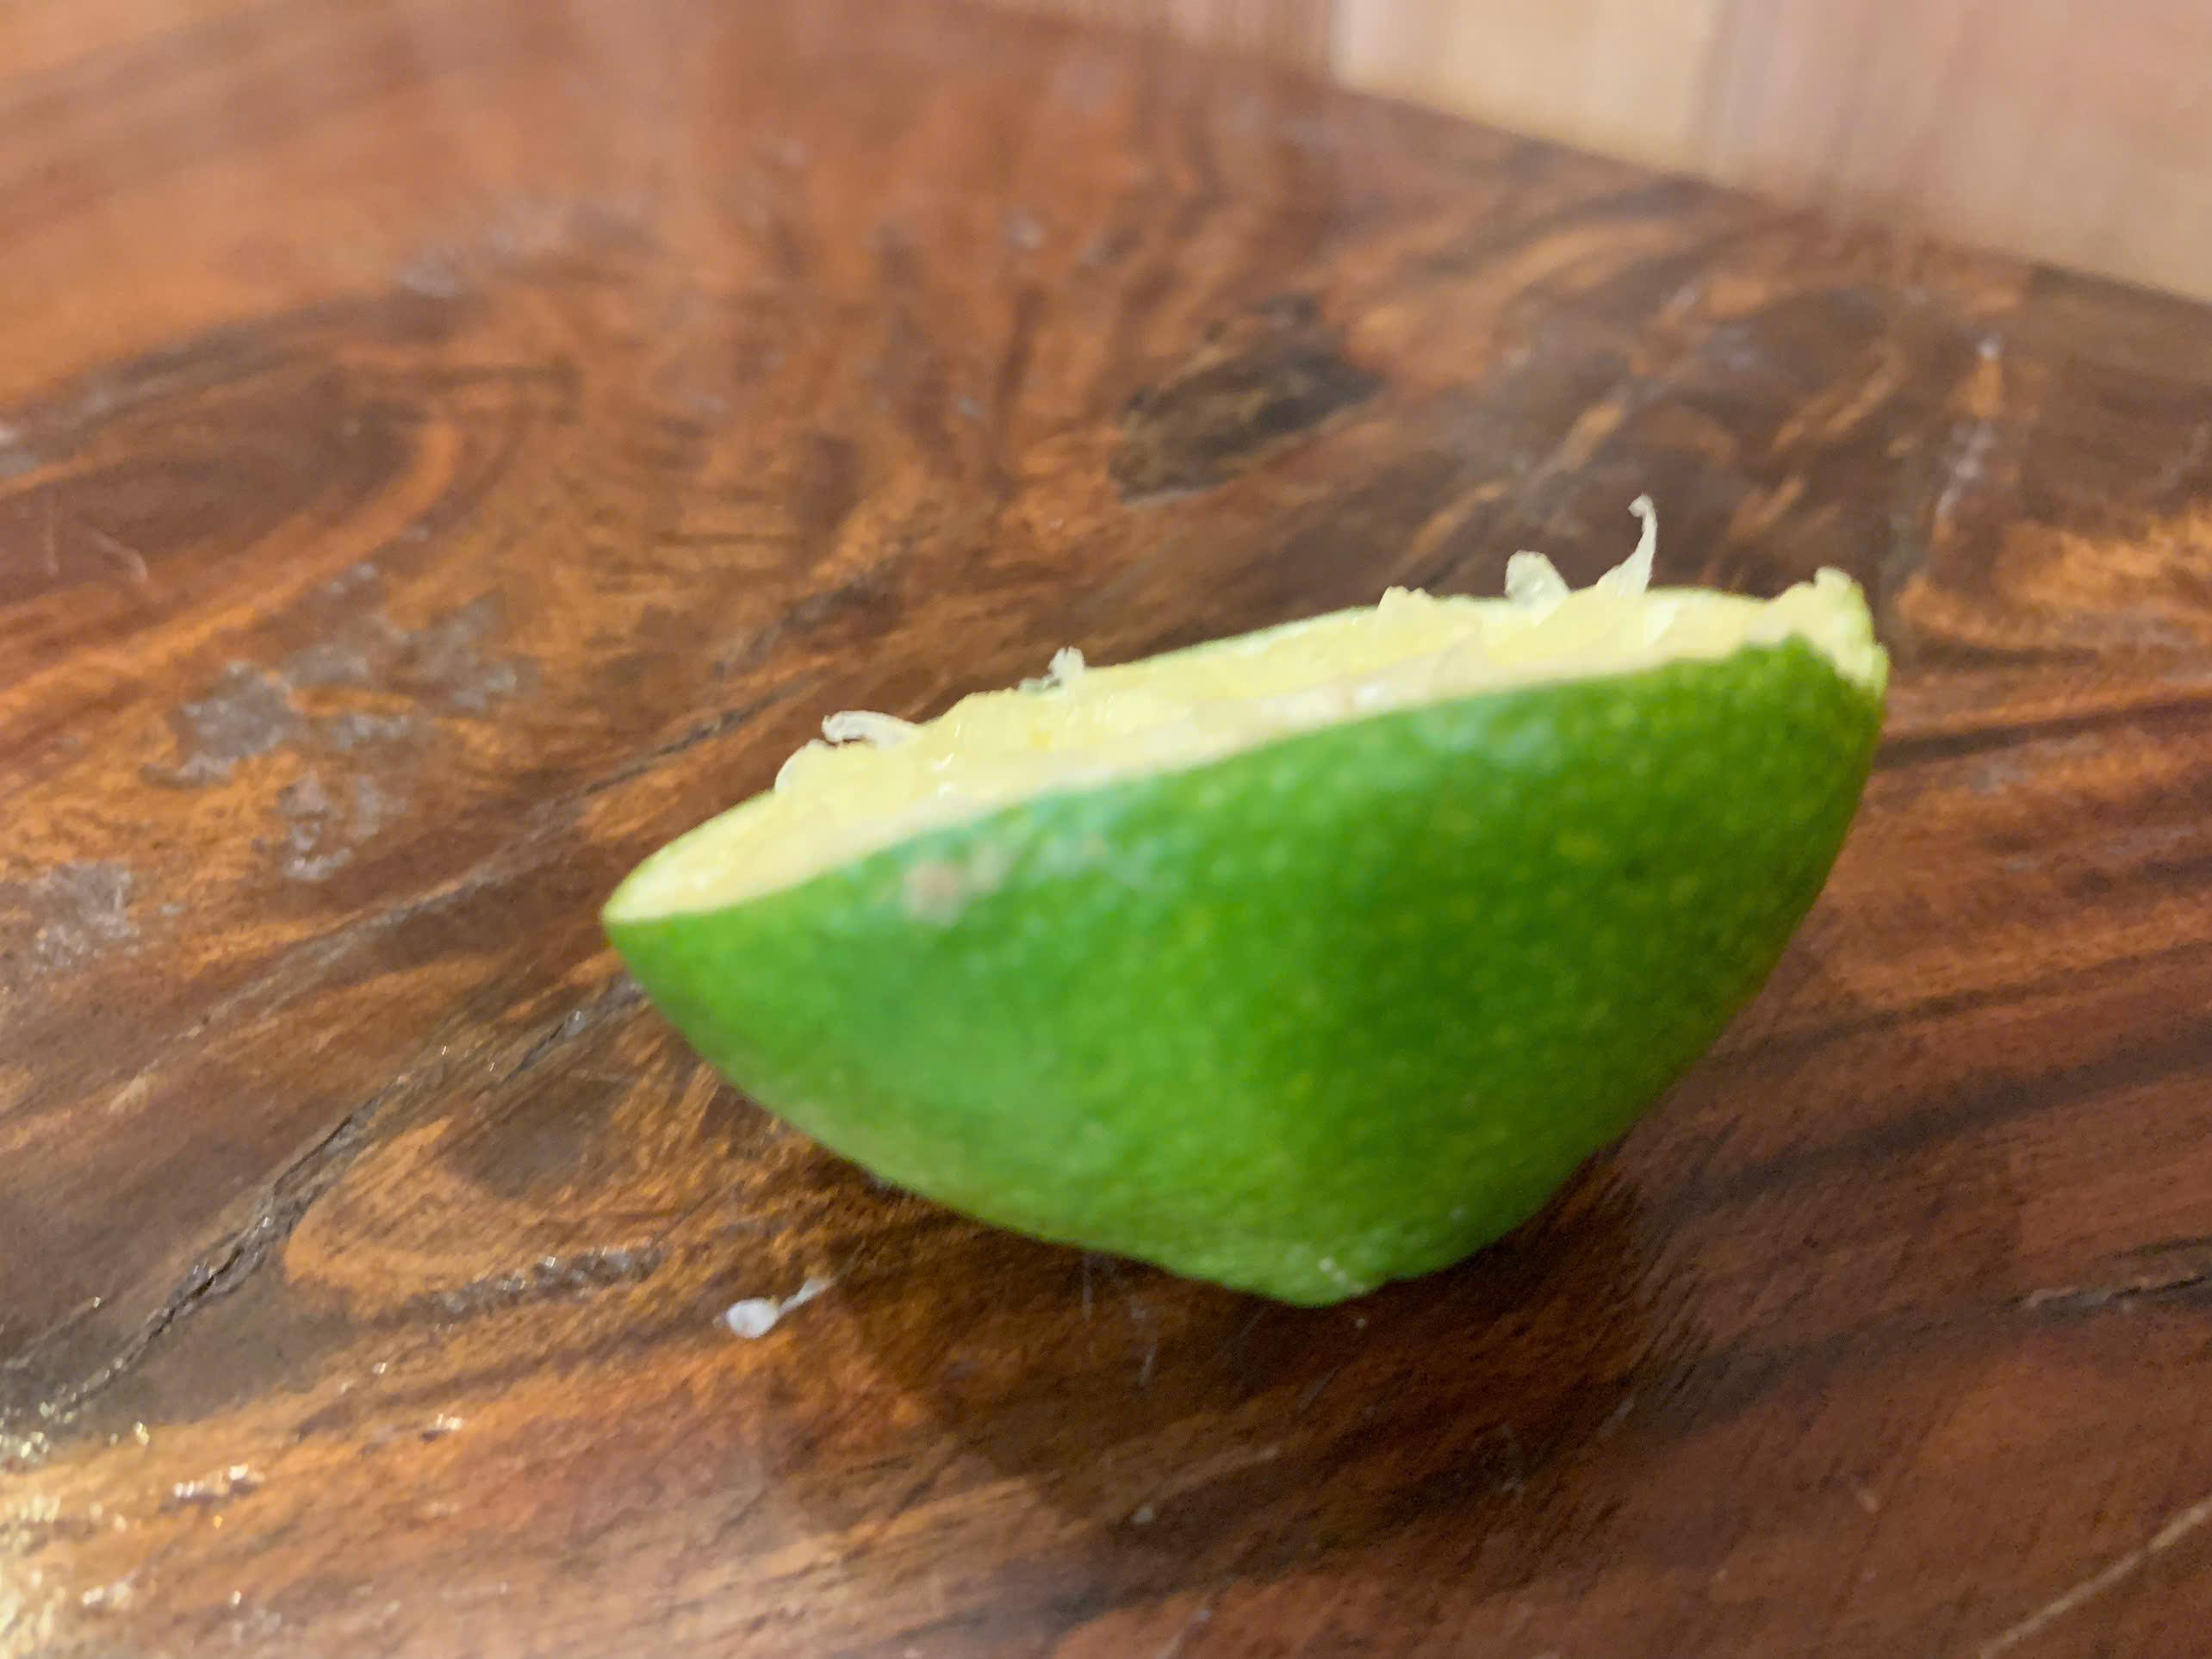Huu co: (603, 584, 1892, 1295)
